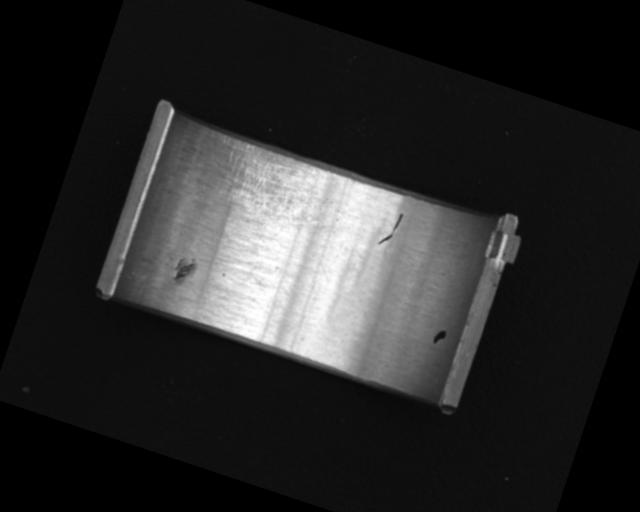blot: (431, 326, 448, 347)
bruise: (169, 252, 200, 288)
nick: (377, 208, 405, 248)
scratch: (201, 135, 348, 243)
